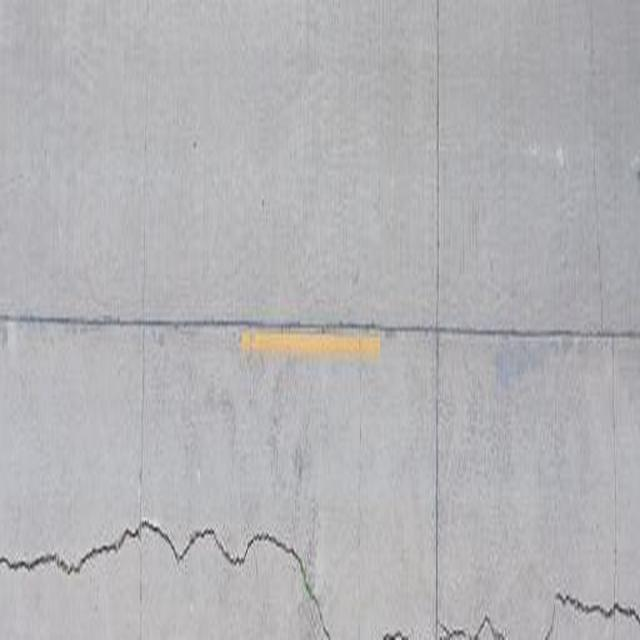Crack: (2, 504, 312, 600), (366, 562, 640, 640)
